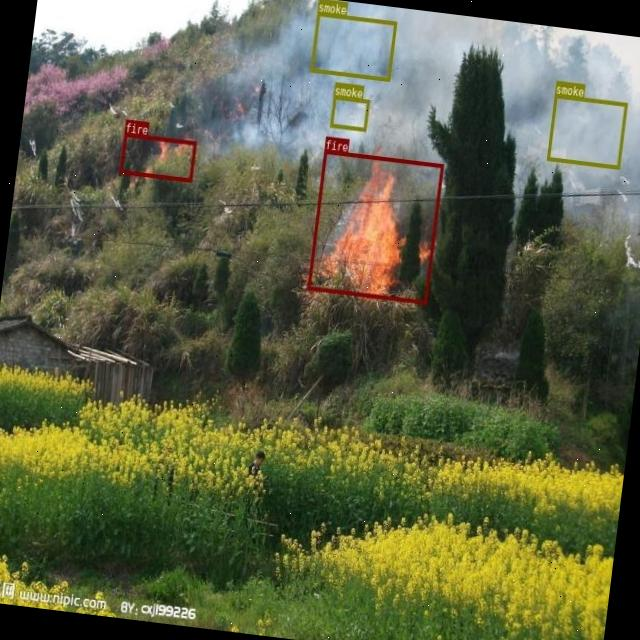fire: (306, 149, 443, 304), (119, 132, 194, 181)
smoke: (545, 92, 627, 168), (309, 11, 396, 80), (328, 94, 369, 130)
